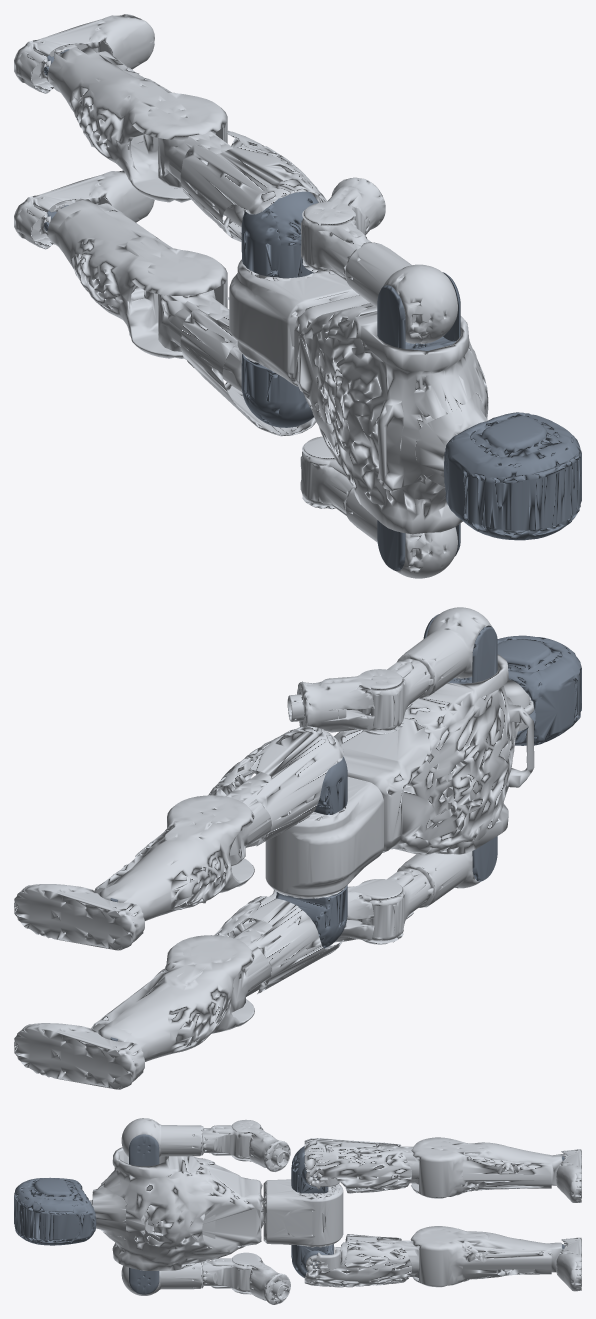
The model's file is asimov_1_mobile.glb.
3 renders of one model, top to bottom at view 1: azimuth 30°, elevation 25°; view 2: azimuth 150°, elevation 25°; view 3: azimuth 270°, elevation 25°, orthographic. The views are drawn at different scales.
Visible parts, largest first — view 1: waist_yaw_link, neck_pitch_link, right_knee_link, left_knee_link, left_hip_yaw_link, pelvis_link, right_hip_yaw_link, left_shoulder_roll_link, left_ankle_roll_link, left_hip_pitch_link, right_ankle_roll_link, right_hip_pitch_link (+6 smaller); view 2: waist_yaw_link, right_knee_link, left_knee_link, pelvis_link, left_hip_yaw_link, right_hip_yaw_link, right_ankle_roll_link, left_ankle_roll_link, neck_pitch_link, left_elbow_link, left_shoulder_roll_link, right_shoulder_yaw_link (+8 smaller); view 3: waist_yaw_link, left_knee_link, right_knee_link, left_hip_yaw_link, neck_pitch_link, pelvis_link, right_hip_yaw_link, left_shoulder_roll_link, right_elbow_link, left_elbow_link, left_shoulder_yaw_link, right_shoulder_yaw_link (+11 smaller).
Part boxes in pixels (<box>): waist_yaw_link: <box>294,295,488,534</box>; neck_pitch_link: <box>444,412,581,540</box>; right_knee_link: <box>47,199,227,358</box>; left_knee_link: <box>47,44,227,202</box>; left_hip_yaw_link: <box>158,130,326,241</box>; pelvis_link: <box>229,259,358,386</box>; right_hip_yaw_link: <box>158,289,316,436</box>; left_shoulder_roll_link: <box>345,242,457,343</box>; left_ankle_roll_link: <box>14,14,154,93</box>; left_hip_pitch_link: <box>241,191,318,278</box>; right_ankle_roll_link: <box>14,170,154,249</box>; right_hip_pitch_link: <box>241,354,313,427</box>; waist_yaw_link: <box>334,654,534,855</box>; right_knee_link: <box>91,935,254,1061</box>; left_knee_link: <box>94,795,254,920</box>; pelvis_link: <box>265,776,383,898</box>; left_hip_yaw_link: <box>208,726,343,866</box>; right_hip_yaw_link: <box>214,896,343,1012</box>; right_ankle_roll_link: <box>14,1023,144,1089</box>; left_ankle_roll_link: <box>14,884,144,950</box>; neck_pitch_link: <box>497,635,581,745</box>; left_elbow_link: <box>297,669,403,734</box>; left_shoulder_roll_link: <box>397,607,491,698</box>; right_shoulder_yaw_link: <box>357,868,433,940</box>; waist_yaw_link: <box>91,1147,263,1270</box>; left_knee_link: <box>411,1137,568,1198</box>; right_knee_link: <box>410,1226,567,1287</box>; left_hip_yaw_link: <box>304,1138,419,1193</box>; neck_pitch_link: <box>14,1177,96,1245</box>; pelvis_link: <box>261,1179,343,1247</box>; right_hip_yaw_link: <box>304,1234,419,1287</box>; left_shoulder_roll_link: <box>121,1118,203,1156</box>; right_elbow_link: <box>231,1252,290,1304</box>; left_elbow_link: <box>231,1119,290,1171</box>; left_shoulder_yaw_link: <box>202,1125,251,1158</box>; right_shoulder_yaw_link: <box>202,1258,252,1291</box>.
Size of the model in its own units: 0.2528 by 0.4237 by 1.25.
